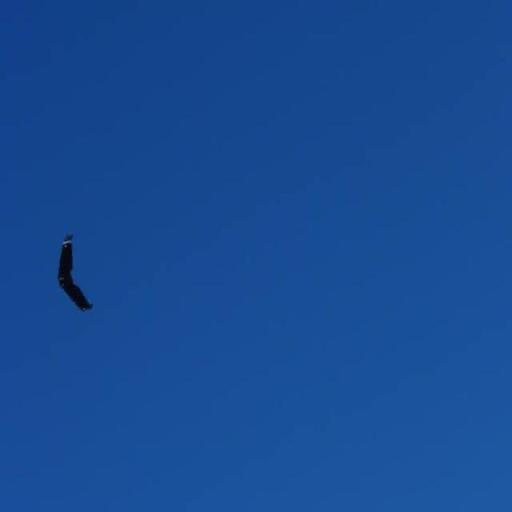uav: (56, 231, 96, 319)
